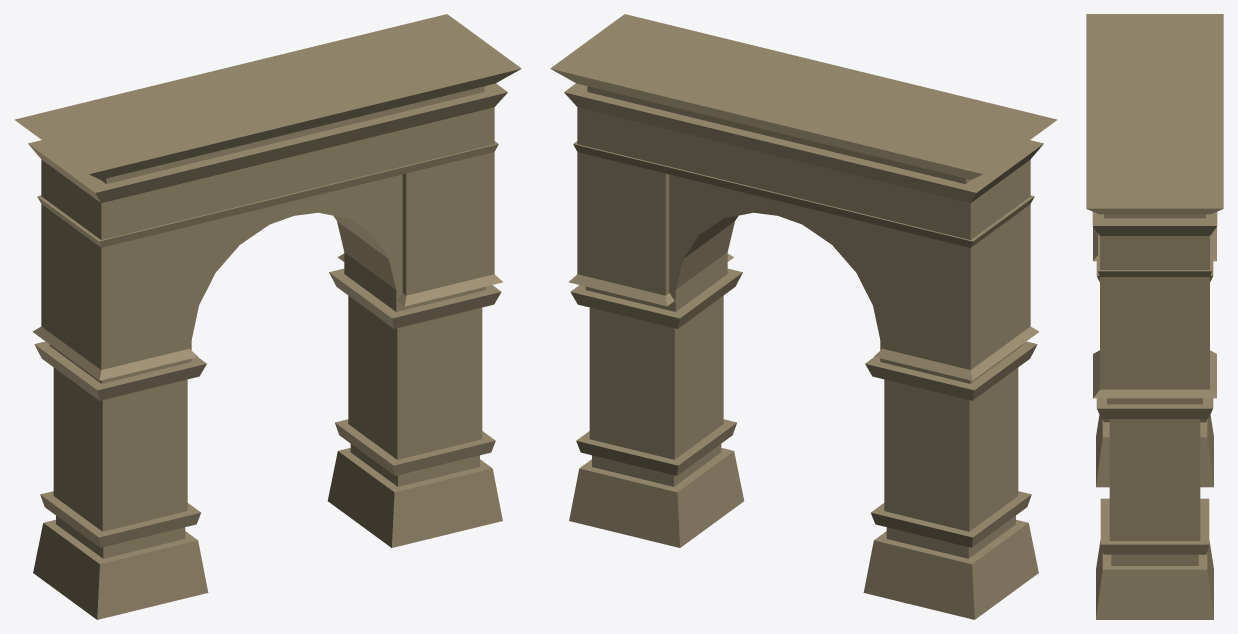
File: Archway.fbx
The picture shows the model from 3 angles, left to right: view 1: azimuth 30°, elevation 25°; view 2: azimuth 150°, elevation 25°; view 3: azimuth 270°, elevation 25°; orthographic projection. The views are drawn at different scales.
Visible parts, largest first — view 1: archway; view 2: archway; view 3: archway.
Boxes of the visible parts, <box> form: archway: <box>14,14,521,619</box>; archway: <box>550,14,1057,619</box>; archway: <box>1086,14,1223,619</box>.
Size of the model in its own units: 441 by 441 by 132.
